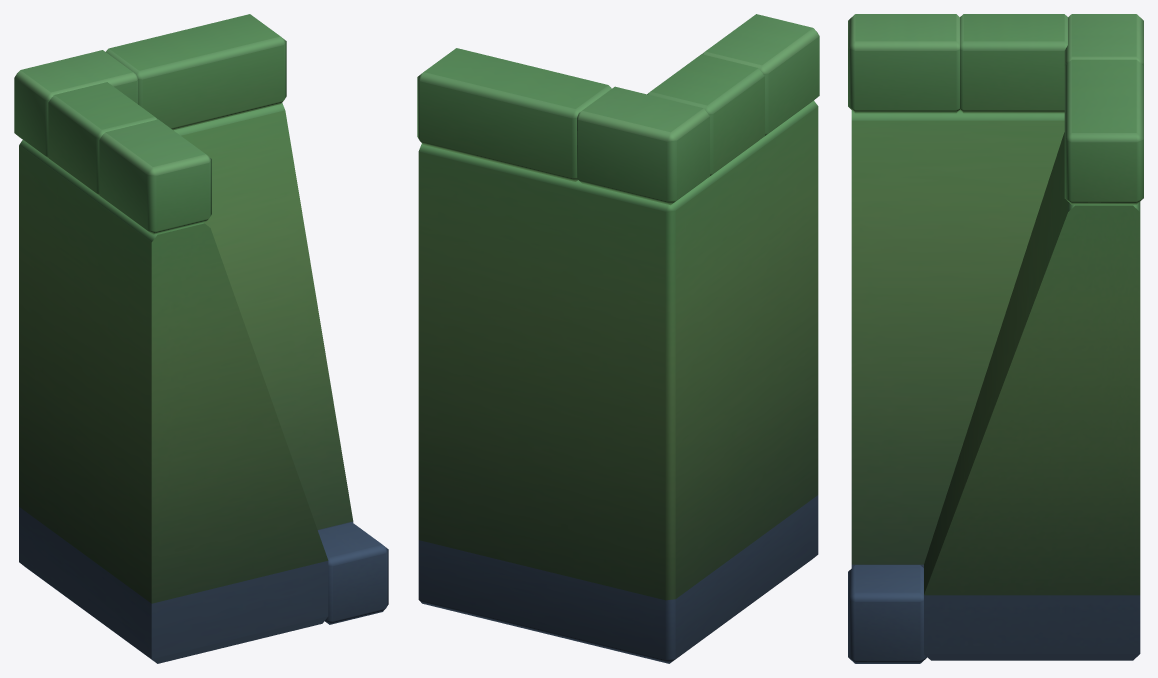
Rendered from wall_lower_corner_concave.fbx.
The picture shows the model from 3 angles, left to right: view 1: azimuth 30°, elevation 25°; view 2: azimuth 150°, elevation 25°; view 3: azimuth 270°, elevation 25°; orthographic projection. The views are drawn at different scales.
Visible parts, largest first — view 1: wall_lower_corner_concave; view 2: wall_lower_corner_concave; view 3: wall_lower_corner_concave.
Part boxes in pixels (bbox=[...]): wall_lower_corner_concave: bbox=[14, 14, 388, 663]; wall_lower_corner_concave: bbox=[417, 14, 819, 663]; wall_lower_corner_concave: bbox=[848, 14, 1143, 663].
Size of the model in its own units: 205 by 406 by 205.
